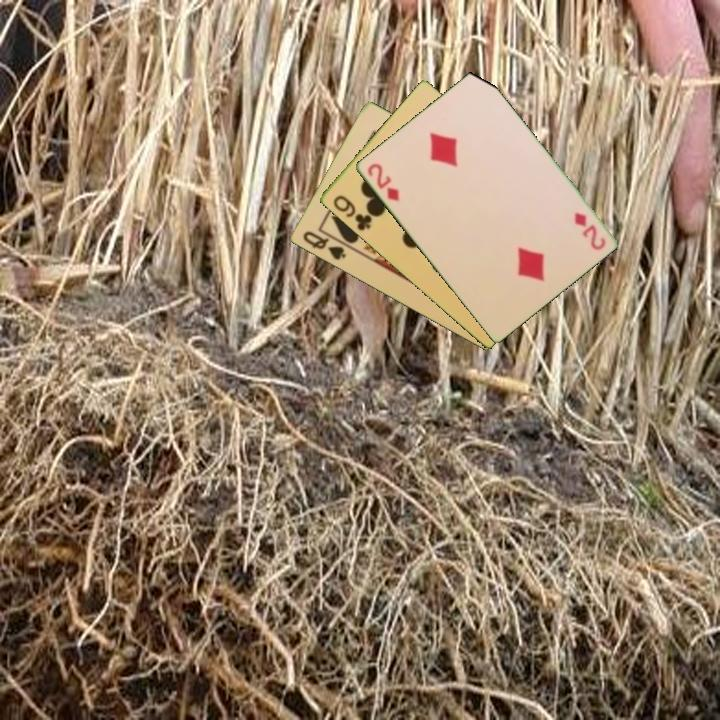2d: (363, 159, 402, 204), (570, 209, 608, 253)
9c: (329, 192, 375, 234)
Qs: (299, 227, 349, 263)
